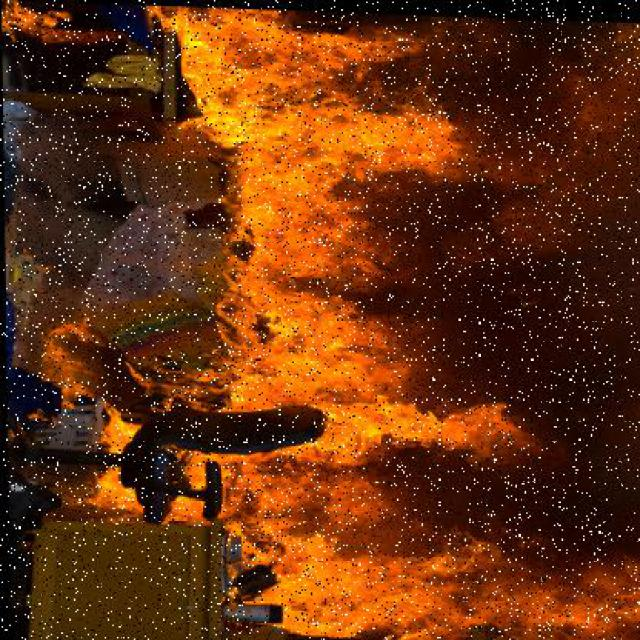fire: (197, 7, 640, 640)
